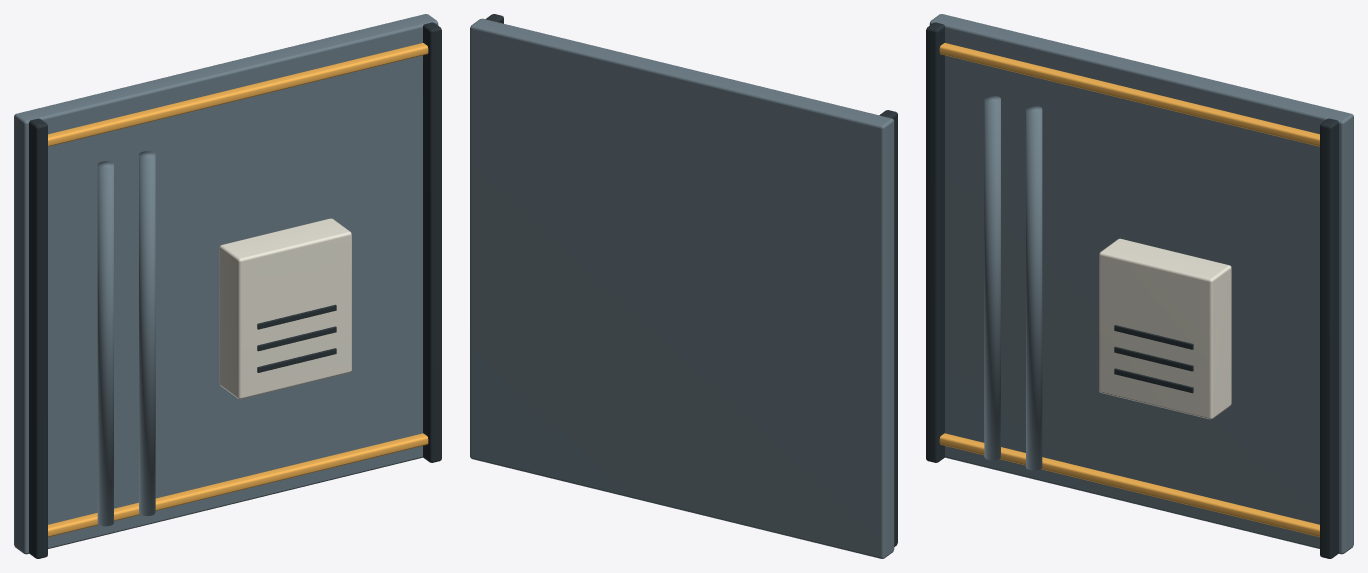
File: SM_FE_ServiceWall.fbx
The picture shows the model from 3 angles, left to right: view 1: azimuth 30°, elevation 25°; view 2: azimuth 150°, elevation 25°; view 3: azimuth 330°, elevation 25°; orthographic projection.
Visible parts, largest first — view 1: SM_FE_ServiceWall; view 2: SM_FE_ServiceWall; view 3: SM_FE_ServiceWall.
Part boxes in pixels (box(x1,y1,x2,y2)): SM_FE_ServiceWall: box(14, 14, 441, 558); SM_FE_ServiceWall: box(470, 14, 897, 558); SM_FE_ServiceWall: box(926, 14, 1353, 558).
Size of the model in its own units: 400 by 60 by 400.
